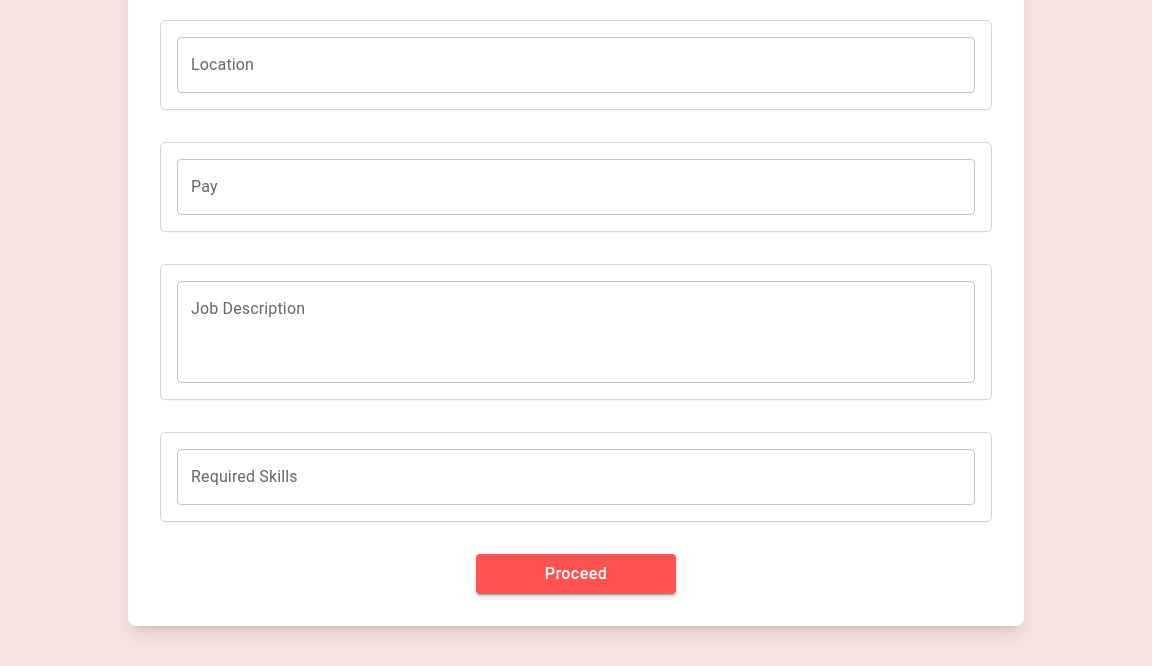
Test: CreateJob Component › displays validation errors when fields are empty and submitted
This screenshot has width=1152, height=666.
(page scrolled)
Click the button "Proceed" at coordinates (576, 574), box [476,554,676,594]
(page scrolled)
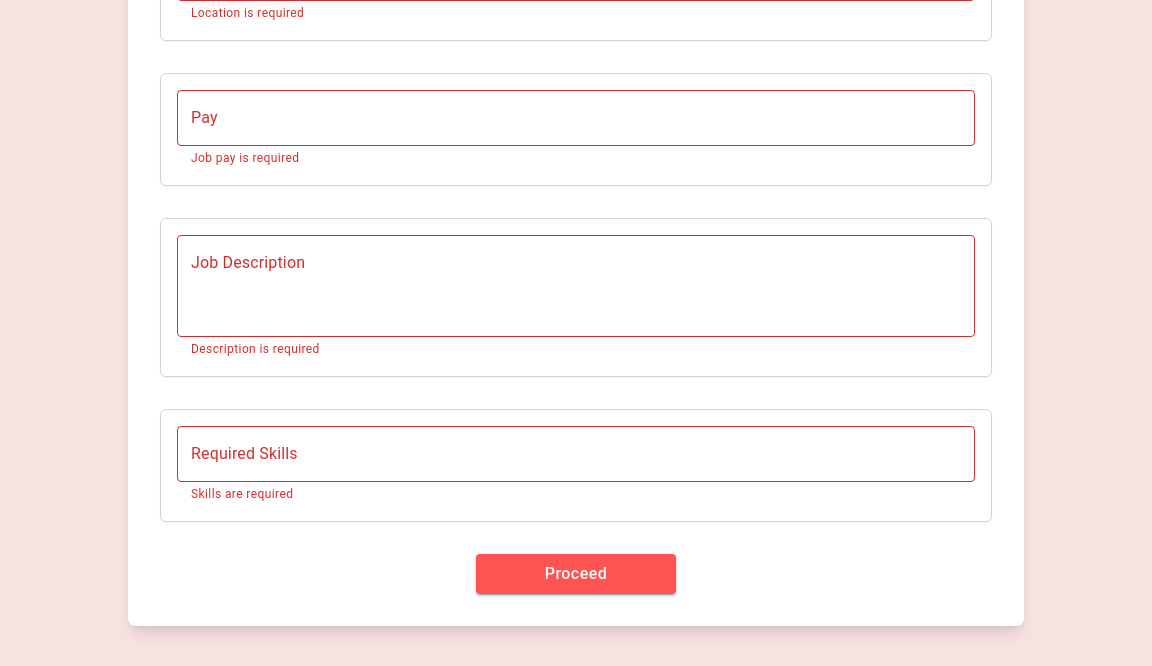
Result: the text "Location is required" is shown at [191,6,304,20]
Result: the text "Job pay is required" is shown at [191,151,300,165]
Result: the text "Description is required" is shown at [191,342,320,356]
